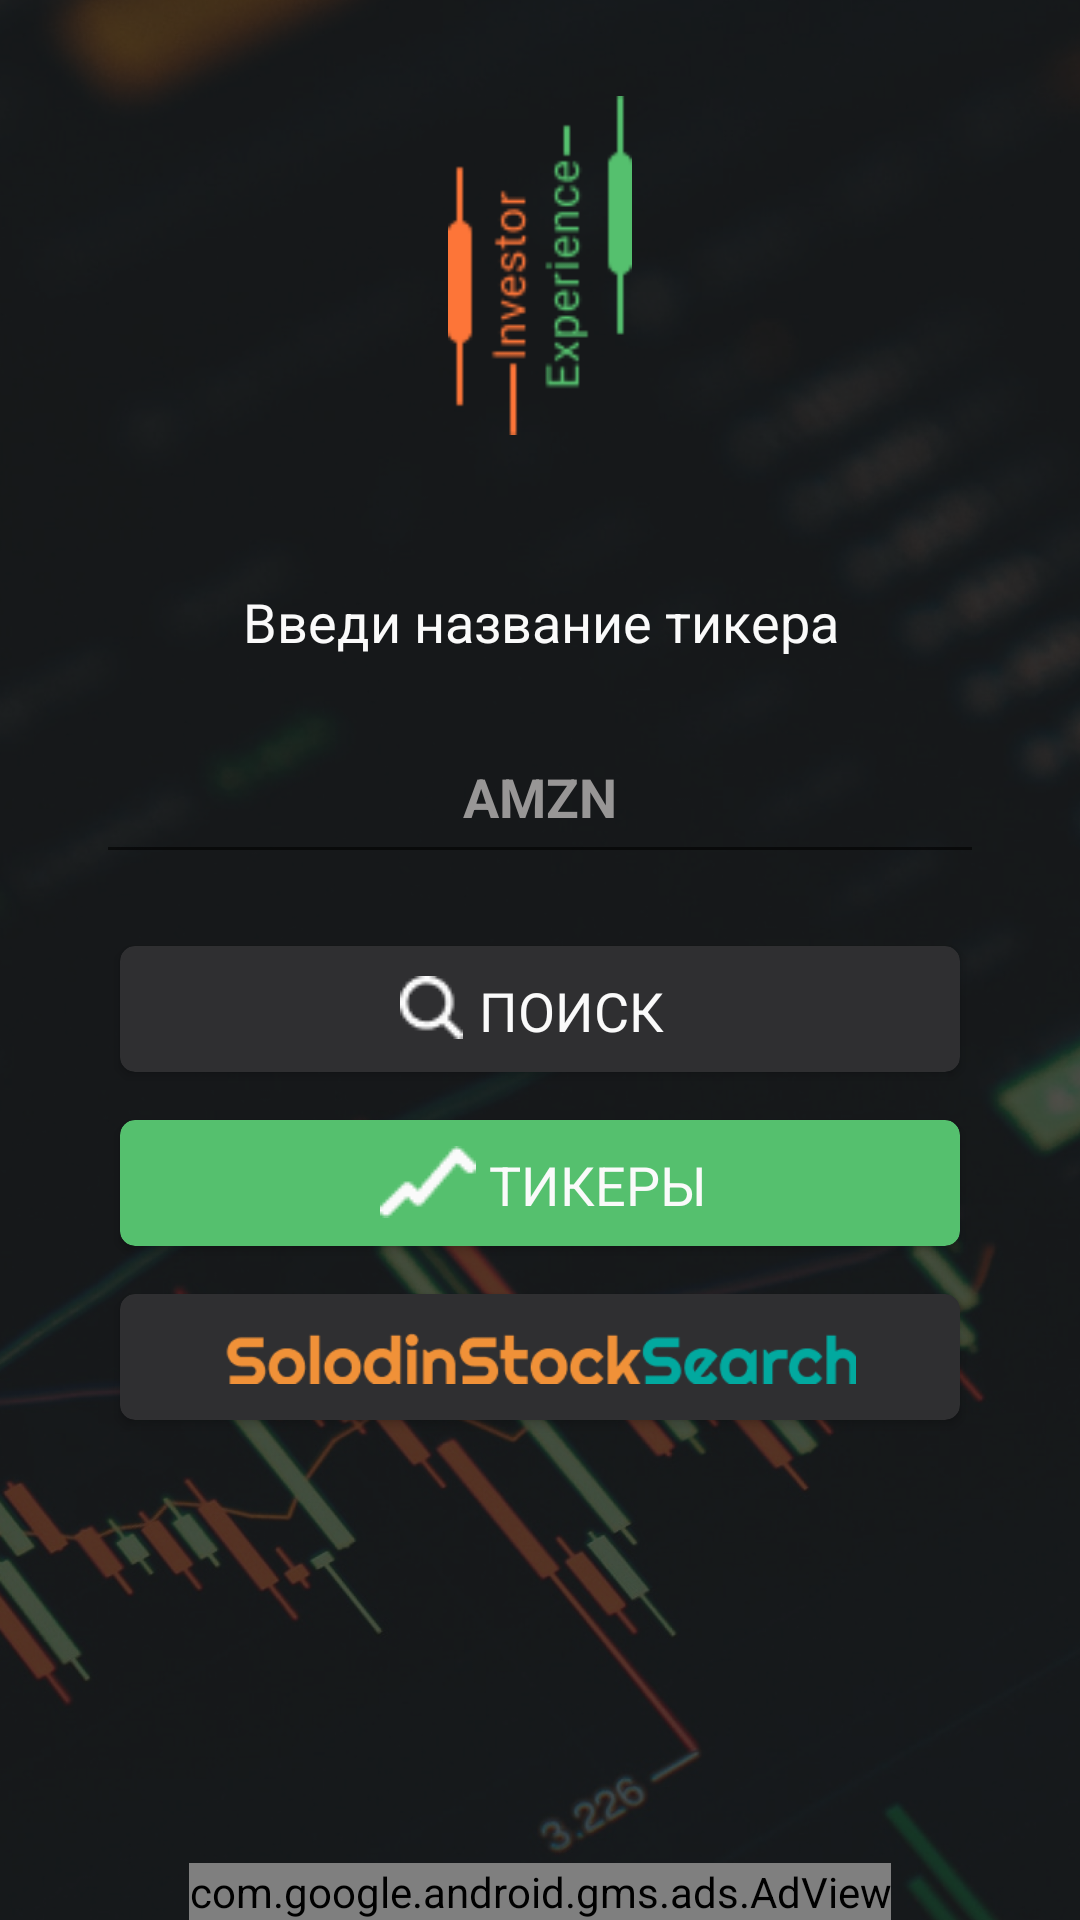

Named icons in this screenshot (1080px x 1920px) and their centers, point (x, y):
grafik: point (428, 1182)
search: point (431, 1007)
